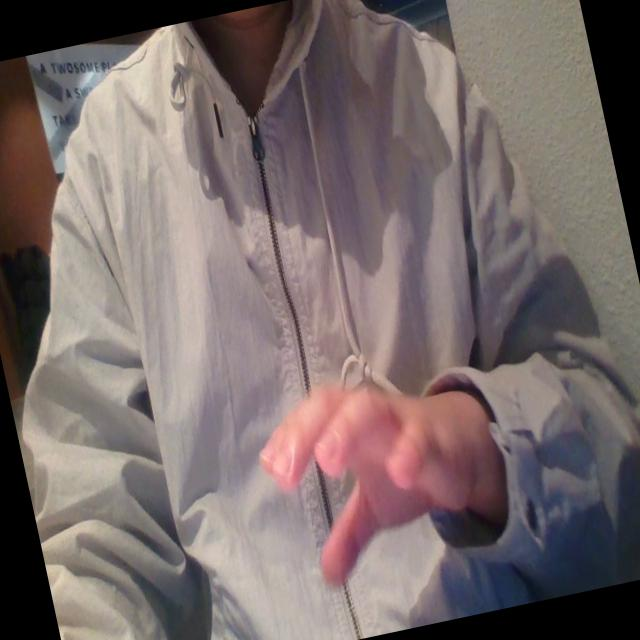hand: (246, 334, 491, 589)
